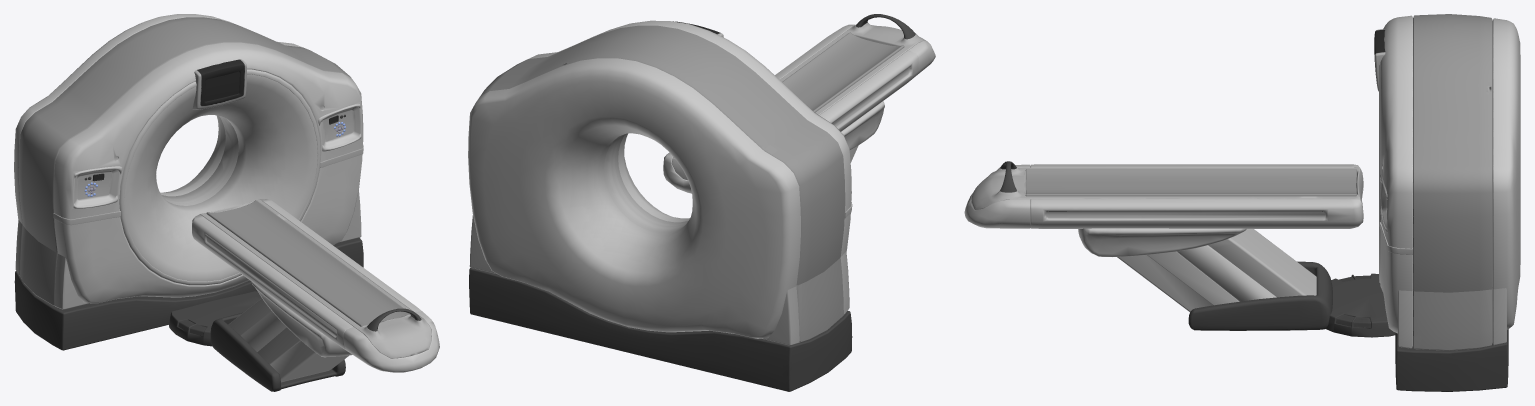
Rendered from ct-scanner-lite.glb.
3 renders of one model, left to right at view 1: azimuth 30°, elevation 25°; view 2: azimuth 150°, elevation 25°; view 3: azimuth 270°, elevation 25°, orthographic. The views are drawn at different scales.
Visible parts, largest first — view 1: Scanner_Main_lambert2_0, Scanner_Stand_lambert1_0; view 2: Scanner_Main_lambert2_0, Scanner_Stand_lambert1_0; view 3: Scanner_Main_lambert2_0, Scanner_Stand_lambert1_0.
Part boxes in pixels (x1,y1,x2,y2): Scanner_Main_lambert2_0: [14, 14, 363, 350]; Scanner_Stand_lambert1_0: [192, 199, 439, 391]; Scanner_Main_lambert2_0: [468, 20, 852, 391]; Scanner_Stand_lambert1_0: [663, 14, 935, 193]; Scanner_Main_lambert2_0: [1326, 14, 1520, 391]; Scanner_Stand_lambert1_0: [964, 161, 1363, 330].
Bounding box in the file's own units: 0.052 × 0.0427 × 0.0759.
2 materials, 2 textured.
